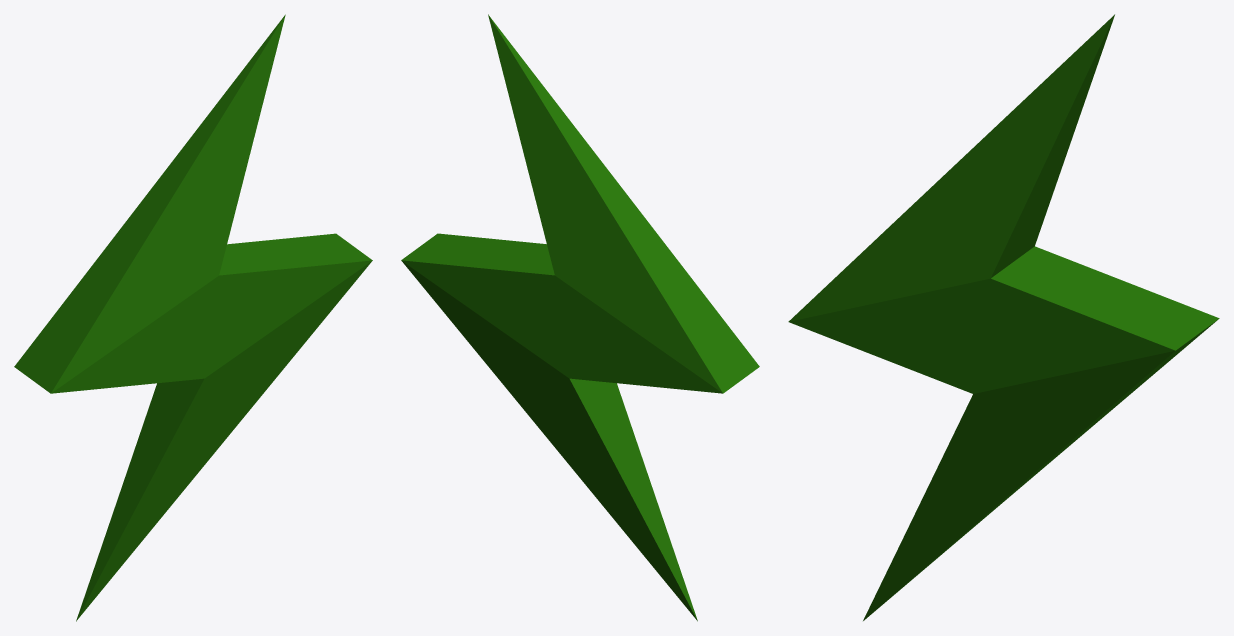
File: energy.FBX
3 views of the same model, side by side, from view 1: azimuth 30°, elevation 25°; view 2: azimuth 150°, elevation 25°; view 3: azimuth 330°, elevation 25° (orthographic). The views are drawn at different scales.
Visible parts, largest first — view 1: Box001; view 2: Box001; view 3: Box001.
Part boxes in pixels (left/top/right/bottom): Box001: left=14, top=14, right=372, bottom=621; Box001: left=401, top=14, right=759, bottom=621; Box001: left=788, top=14, right=1219, bottom=620.
Bounding box in the file's own units: 25.18 × 41.58 × 4.97.
